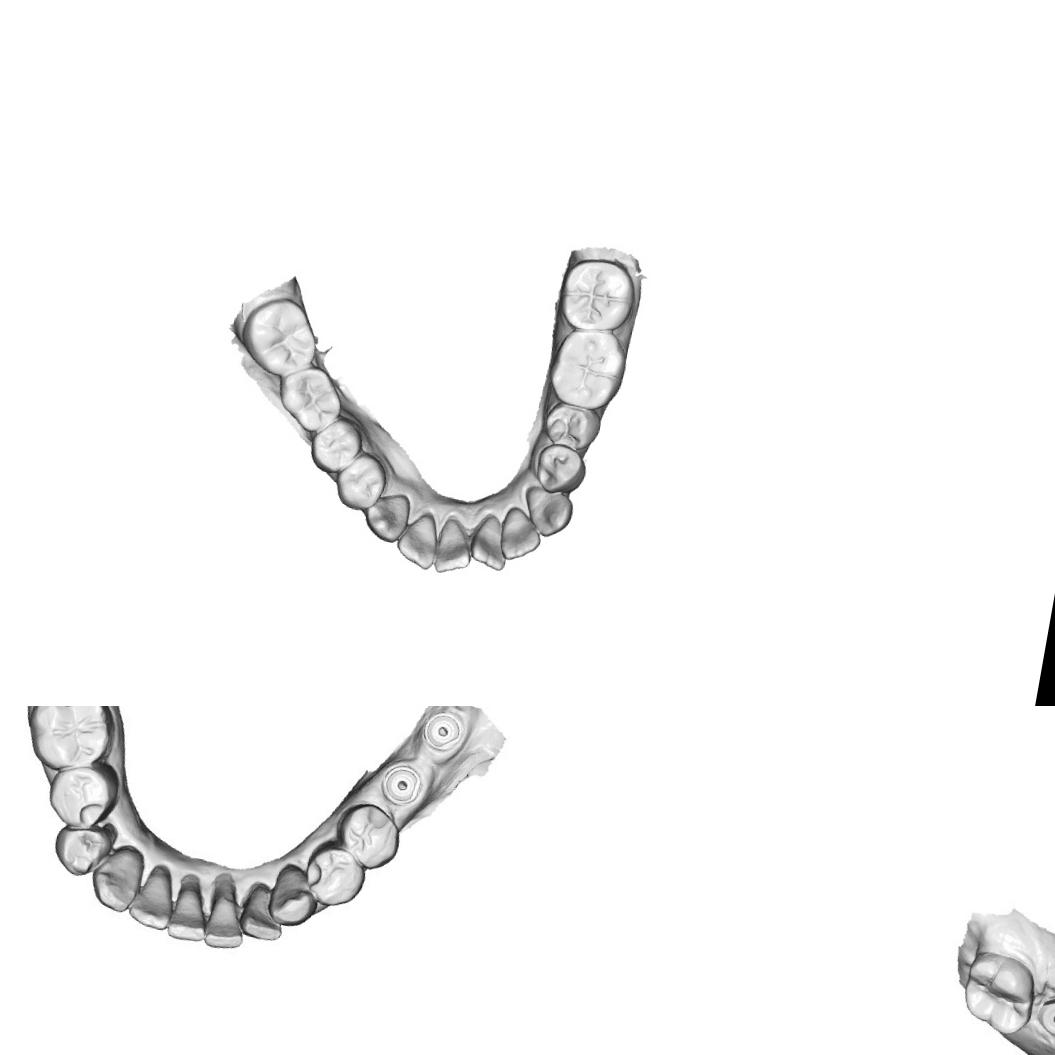canine: (87, 837, 150, 916), (263, 862, 322, 932), (516, 483, 576, 541), (358, 486, 413, 546)
implant: (374, 757, 430, 818), (419, 707, 472, 758), (1032, 990, 1055, 1042)
incisor: (200, 872, 253, 955), (234, 875, 290, 948), (126, 862, 176, 933), (166, 874, 215, 945), (392, 506, 443, 572), (463, 510, 513, 572), (496, 503, 546, 565), (431, 514, 478, 579)
molar: (234, 289, 324, 382), (542, 322, 632, 414), (956, 946, 1040, 1038), (552, 250, 640, 337), (22, 706, 121, 778), (270, 358, 348, 438)
premolar: (328, 796, 406, 874), (42, 759, 117, 835), (299, 841, 372, 912), (47, 815, 116, 882), (305, 410, 368, 478), (328, 446, 391, 514), (538, 400, 604, 454), (530, 440, 590, 499)
